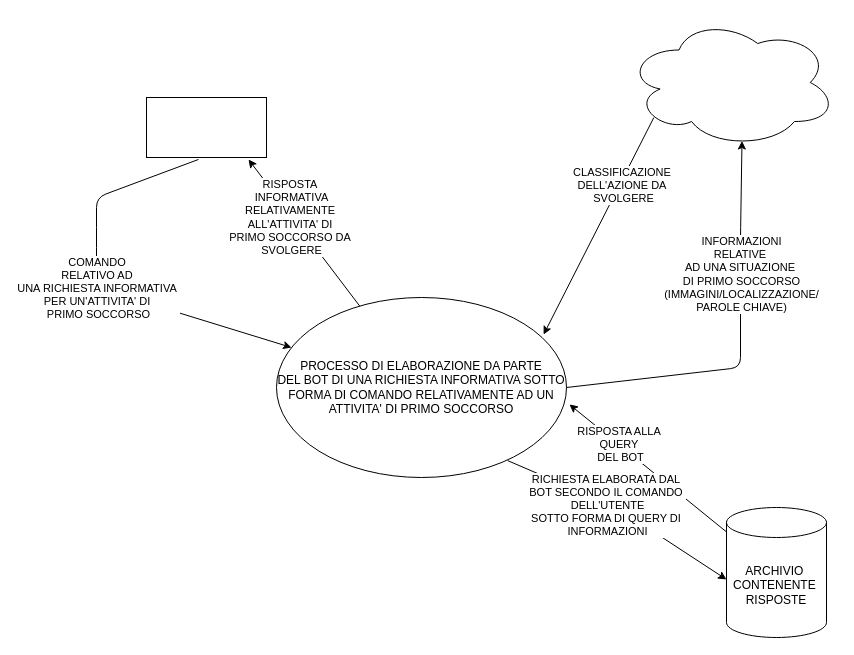
Some shapes in this 854 by 655 pixel diagram are drawn without their labels. The box of each missing label's shape, as (x1, y1, x2, y2) in pixels:
ALGORITMO DI IA IN AIUTO AL BOT: (626, 16, 836, 148)
UTENTE: (146, 96, 266, 158)
